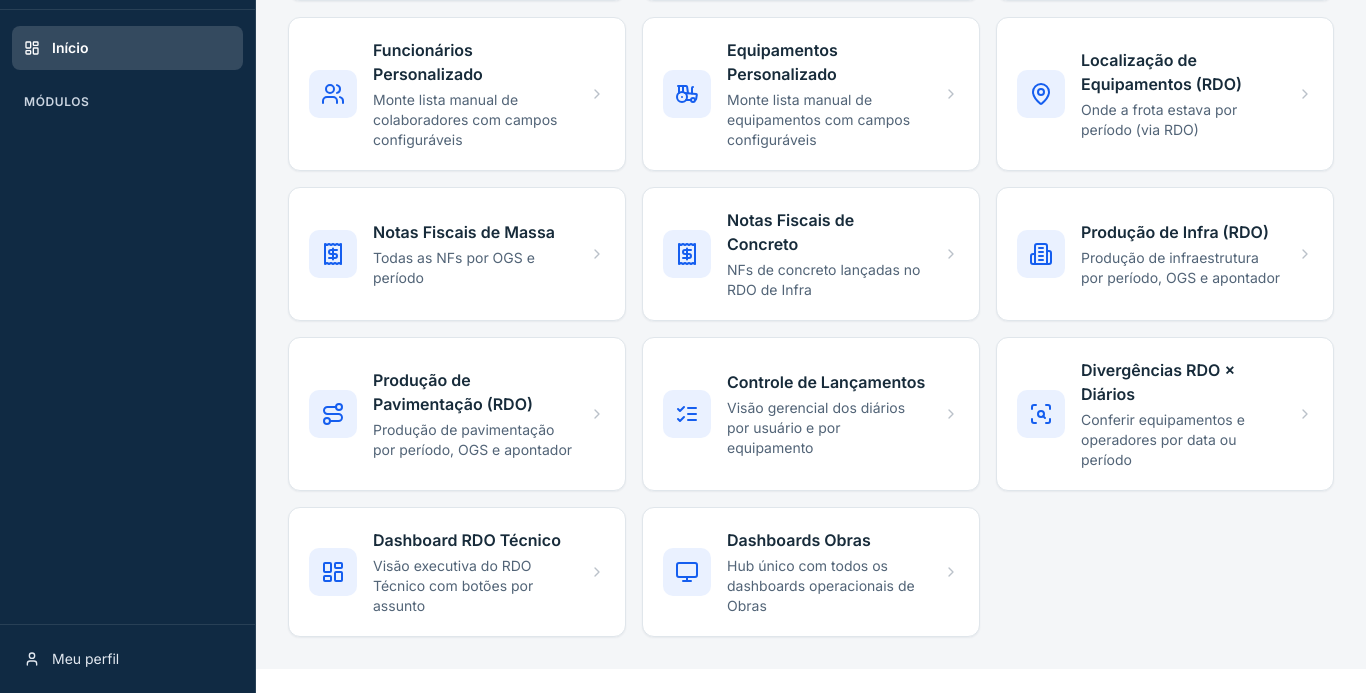
Test: Relatórios — ícones e navegação › mantém os relatórios, com ícones vetoriais em vez de emojis
(page scrolled)
Check: the button "Equipamentos Personalizado" is shown, box top-left (642, 17), bottom-right (980, 171)
What coordinates should you click on to do the following:
click the button "Dashboards Obras"
I would click on:
 (811, 572)
Its box is top-left (642, 507), bottom-right (980, 637).
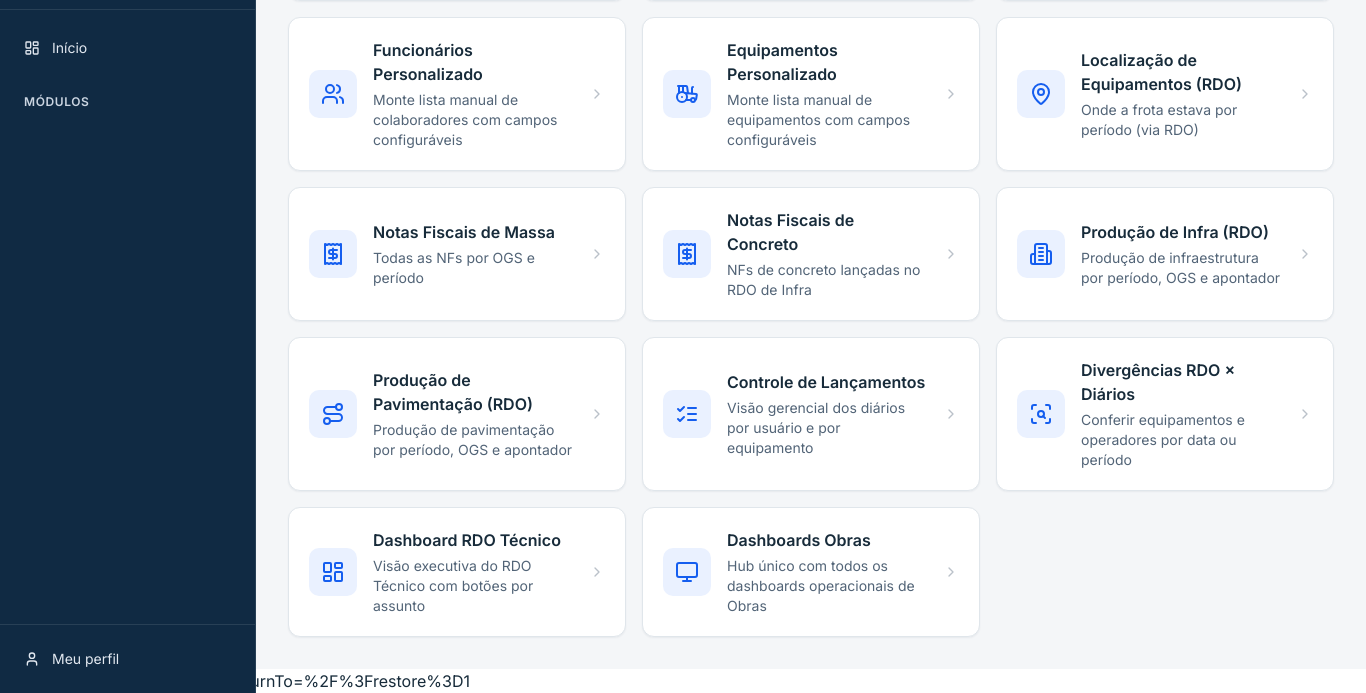
Check: the text with test id "route" shows "/relatorios/dashboards-obras?returnTo=", box top-left (0, 671), bottom-right (470, 691)
